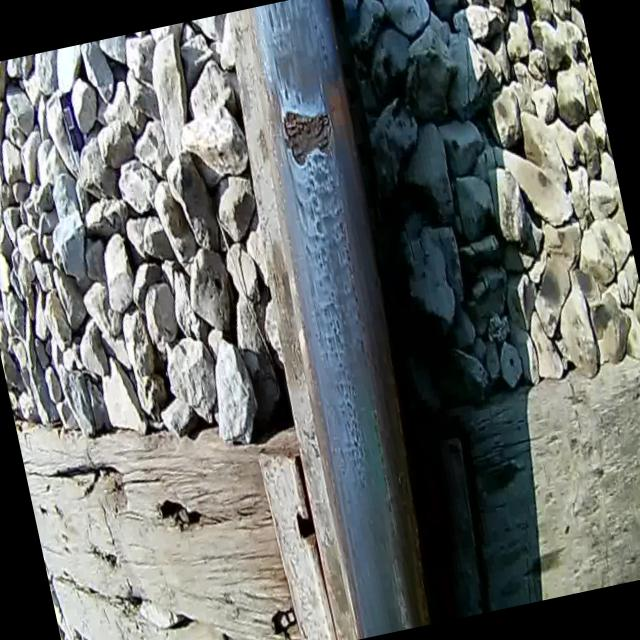Spallings: (275, 96, 346, 180)
Squats: (254, 0, 343, 114)
